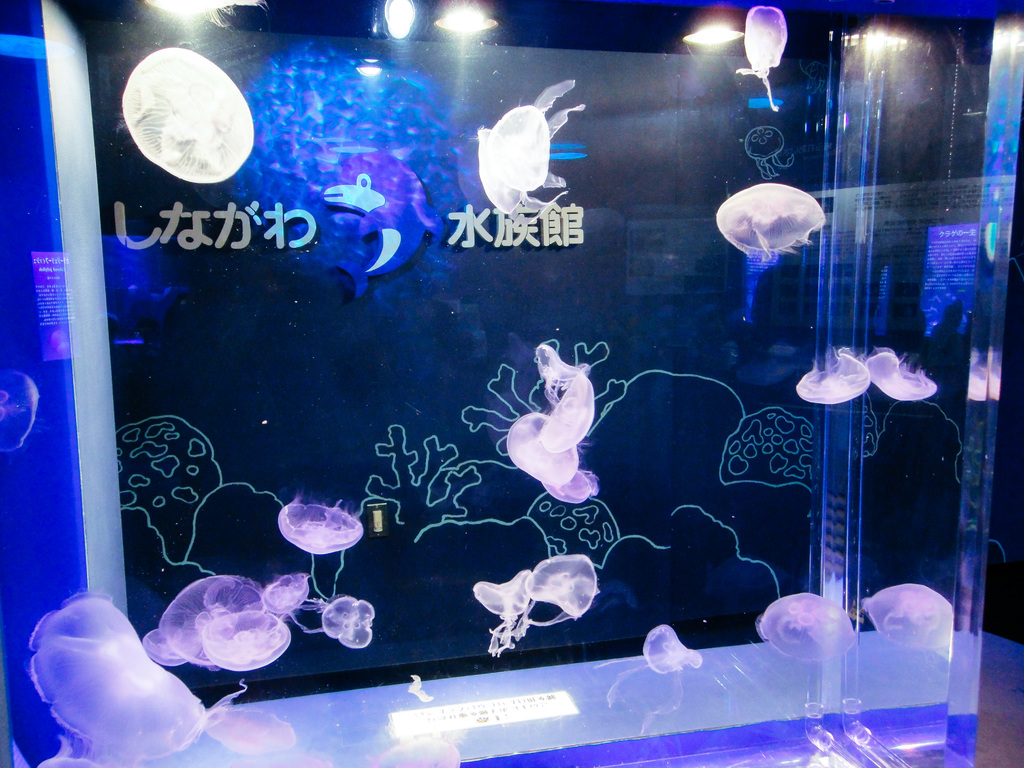Jellyfish: (39, 597, 247, 767), (478, 76, 585, 219), (145, 572, 280, 669), (593, 616, 704, 732), (714, 181, 826, 280), (499, 415, 595, 506), (752, 593, 855, 666), (182, 605, 293, 666), (535, 344, 594, 456), (520, 554, 599, 634), (739, 0, 794, 112), (472, 568, 535, 658), (270, 498, 362, 558), (794, 350, 872, 411), (291, 591, 373, 648), (264, 568, 318, 616)
